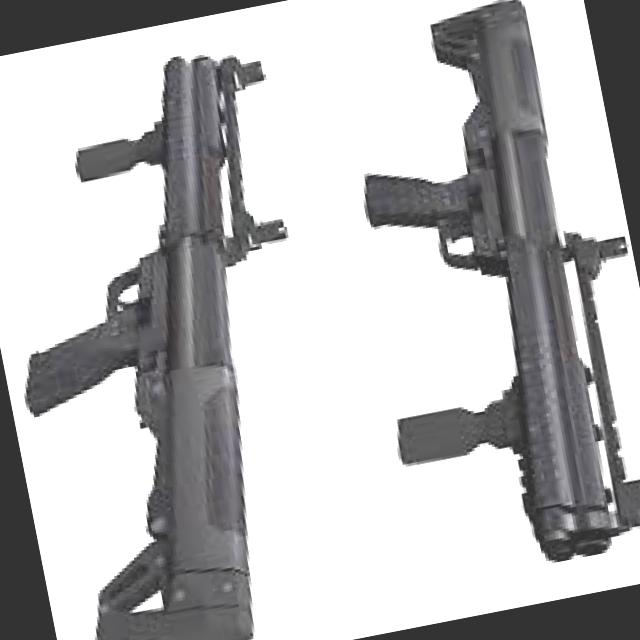long weapon: (320, 0, 640, 614), (27, 20, 333, 640)
